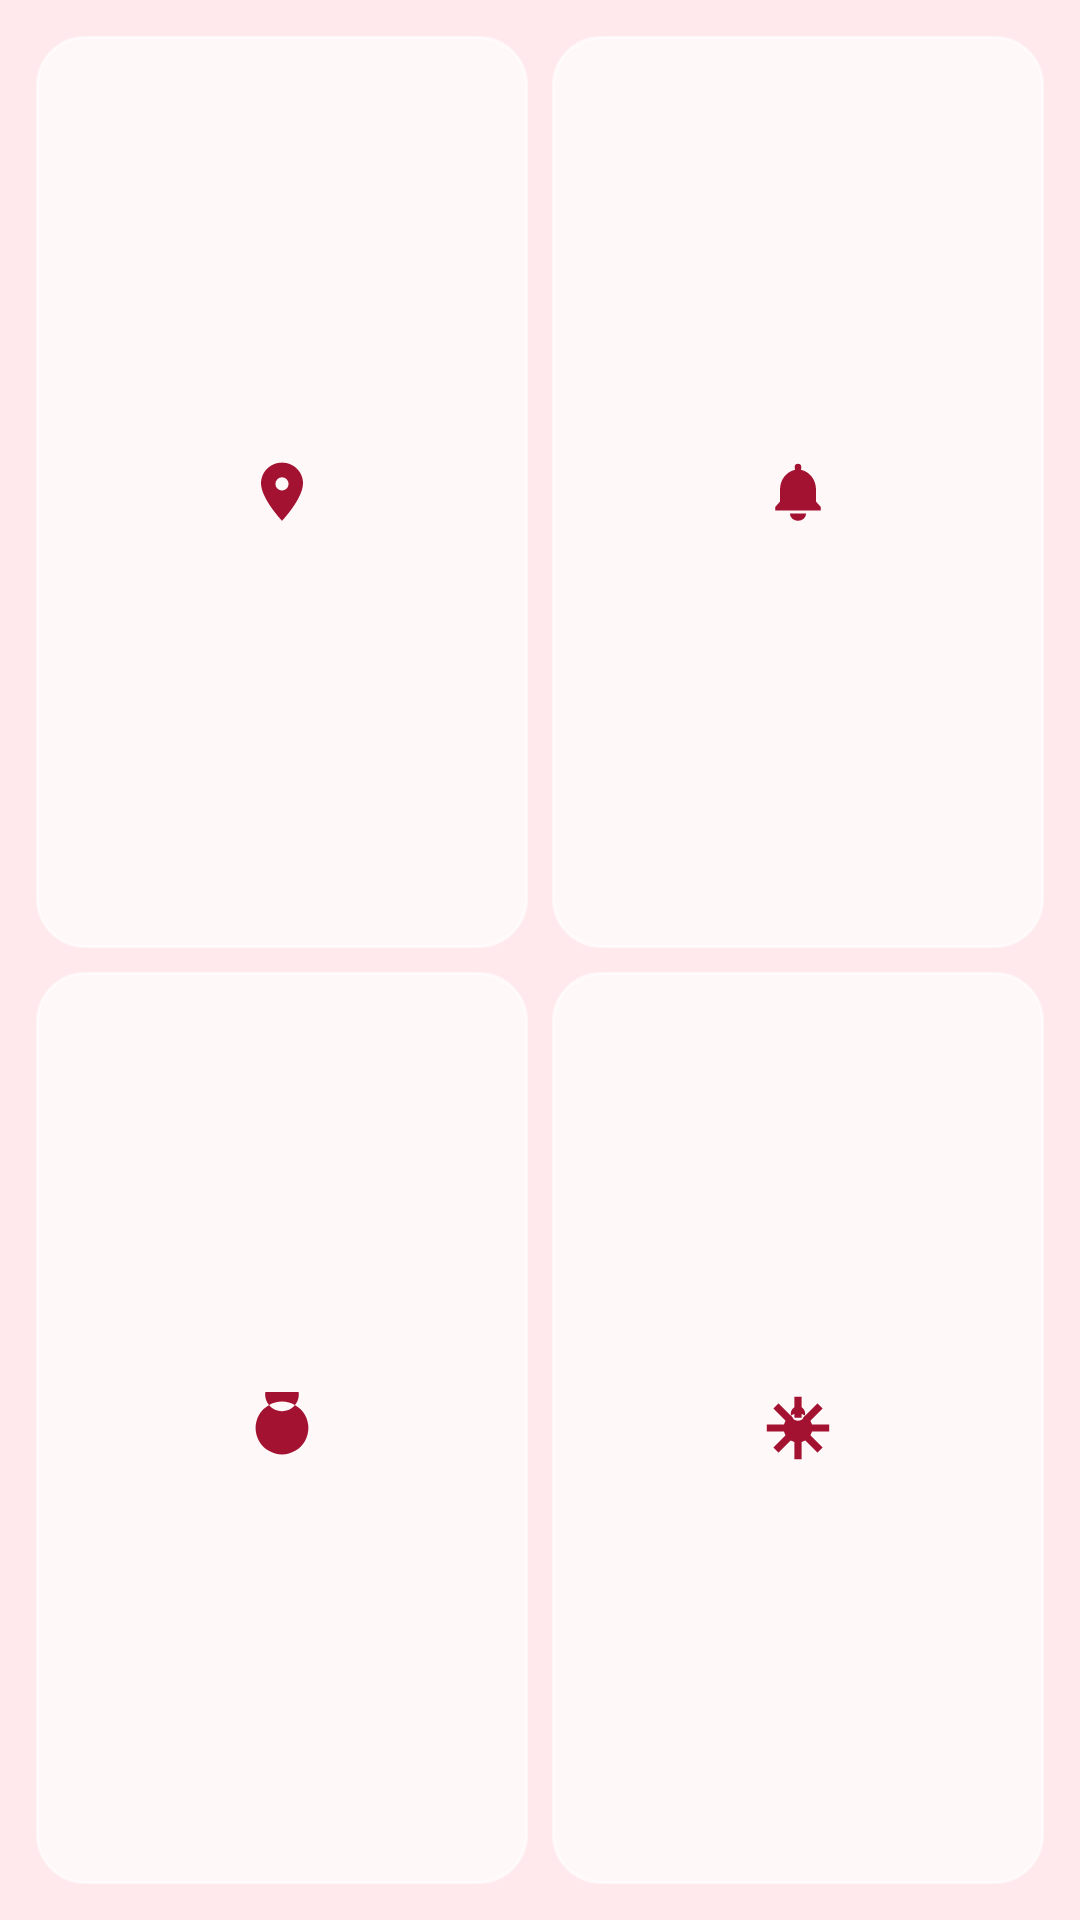

Where to tap for icons on this 1080px x 1920px app screen, as [x,y]:
Track: [282,491]
